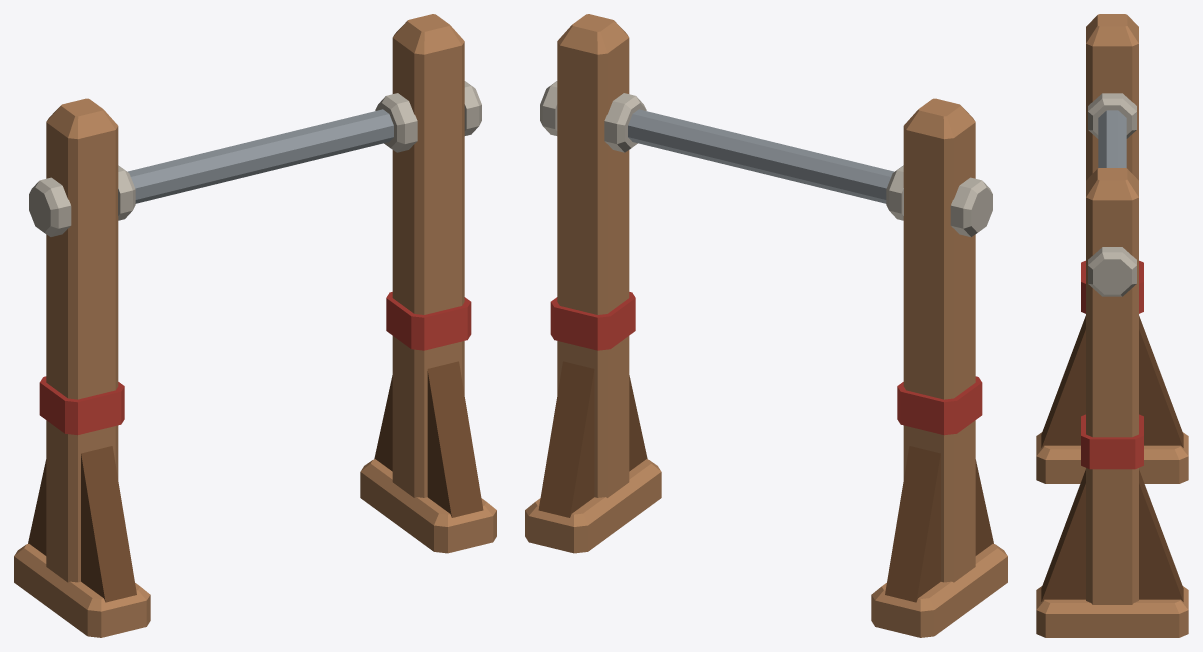
Rendered from FMS_Workshop_FUR_10.fbx.
The picture shows the model from 3 angles, left to right: view 1: azimuth 30°, elevation 25°; view 2: azimuth 150°, elevation 25°; view 3: azimuth 270°, elevation 25°; orthographic projection. The views are drawn at different scales.
Parts seen in each view (by area): view 1: FMS_Workshop_FUR_10_Body; view 2: FMS_Workshop_FUR_10_Body; view 3: FMS_Workshop_FUR_10_Body.
Part boxes in pixels (left/top/right/bottom): FMS_Workshop_FUR_10_Body: left=14, top=14, right=496, bottom=637; FMS_Workshop_FUR_10_Body: left=525, top=14, right=1007, bottom=637; FMS_Workshop_FUR_10_Body: left=1036, top=14, right=1188, bottom=637.
Size of the model in its own units: 1.37 by 1.5 by 0.46.
